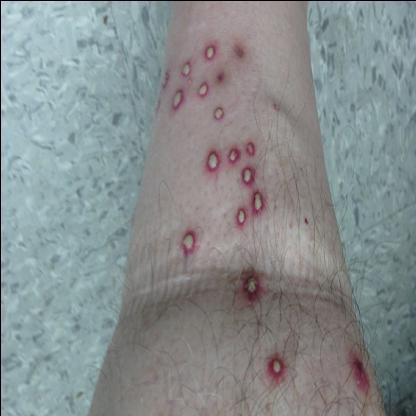Fire ant: (154, 38, 247, 125), (202, 136, 268, 234), (238, 268, 264, 310), (260, 352, 288, 388), (348, 353, 370, 398), (178, 230, 197, 254), (267, 95, 284, 119)
